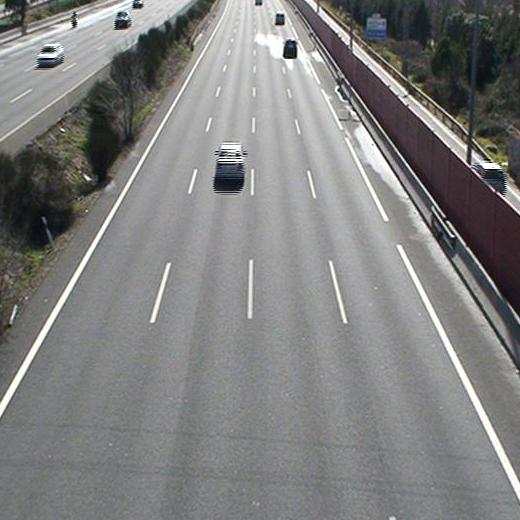car: (215, 142, 246, 184), (283, 39, 298, 58), (276, 11, 284, 24)
